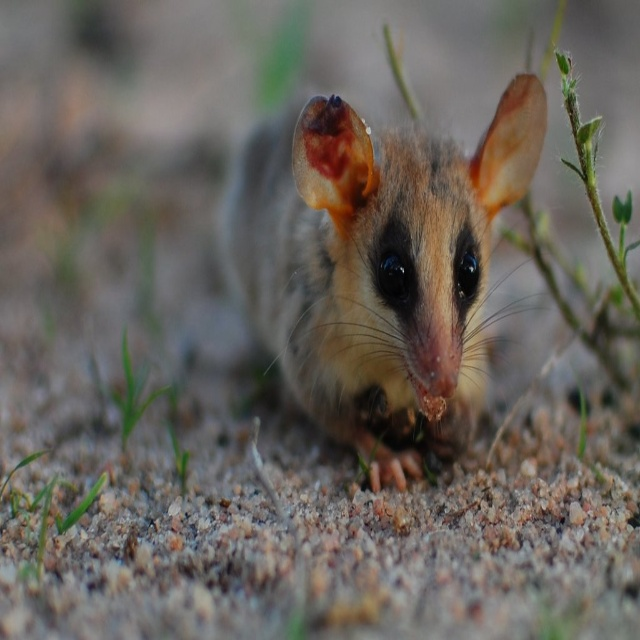Hamster: (218, 68, 573, 496)
